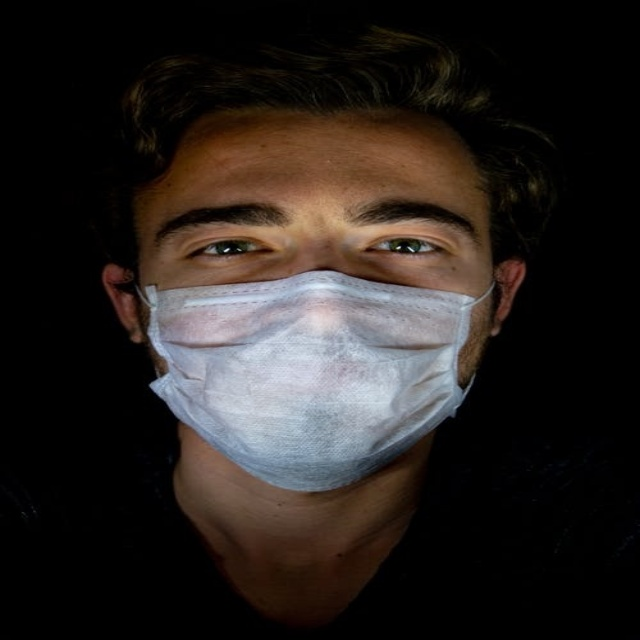Mascara: (135, 267, 493, 492)
Sin_gafas: (147, 187, 489, 269)
